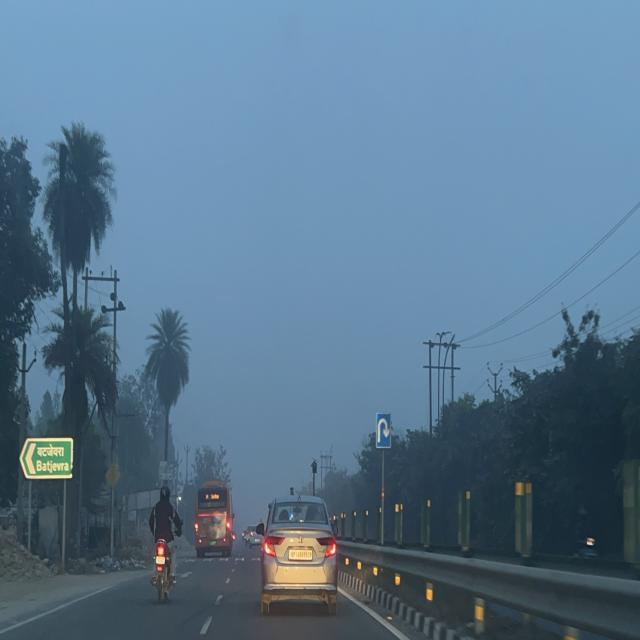GENERAL: (18, 437, 74, 480)
U_TURN: (376, 412, 392, 449)
